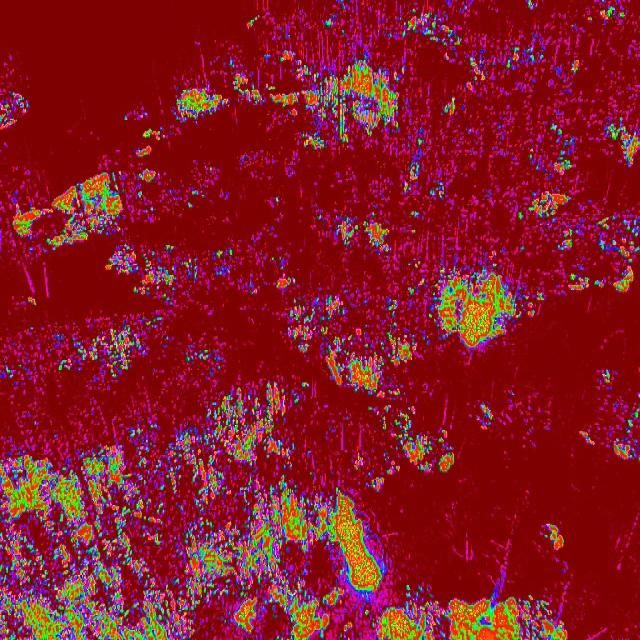fire: (0, 375, 308, 640), (417, 0, 640, 298), (233, 0, 414, 149), (0, 310, 171, 396), (278, 295, 418, 396), (99, 239, 297, 307), (308, 475, 385, 640), (0, 168, 126, 252), (386, 594, 584, 640), (434, 262, 540, 347), (369, 402, 457, 482), (590, 365, 640, 464), (322, 210, 400, 264), (170, 78, 233, 133), (133, 114, 163, 186), (0, 86, 29, 133), (536, 522, 572, 554), (476, 397, 501, 433)
